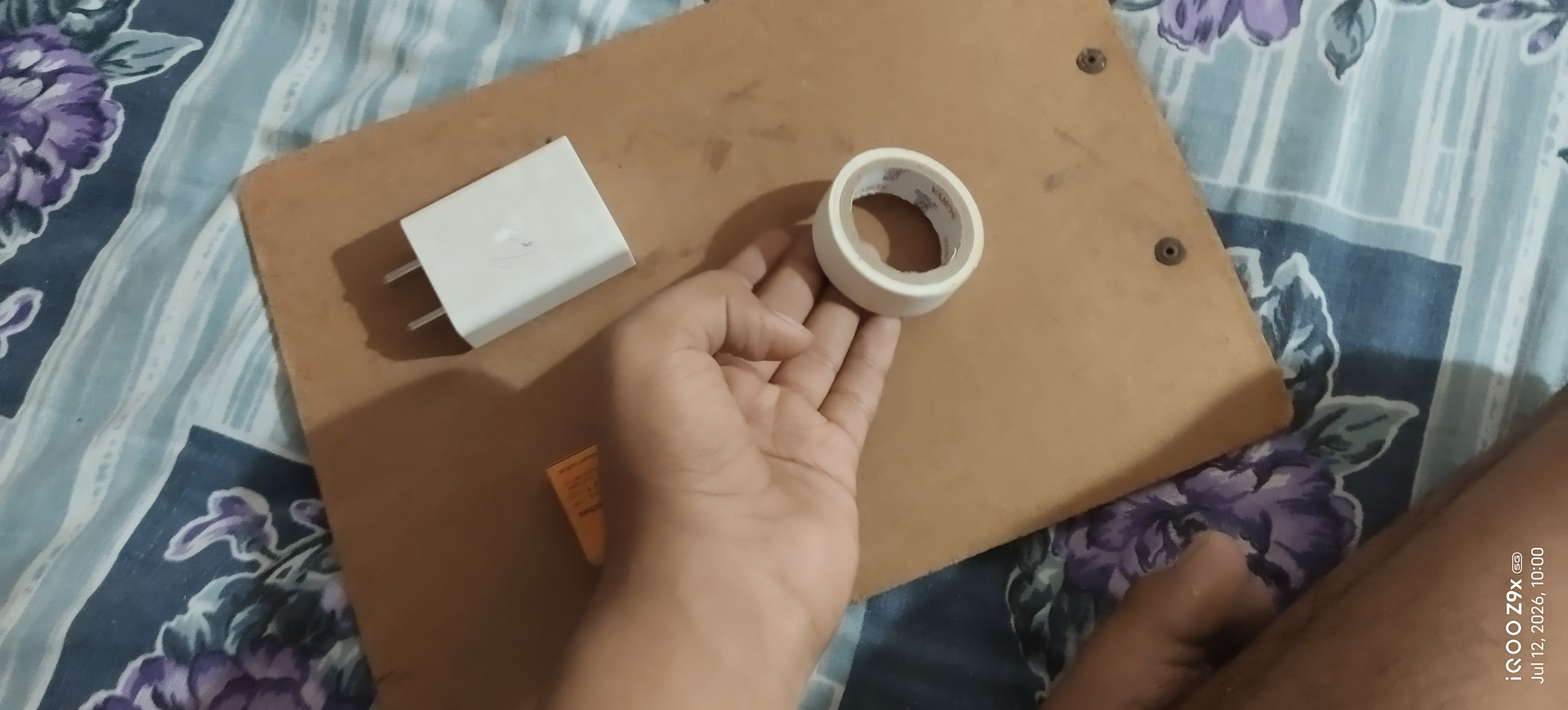charger: (346, 123, 673, 367)
matchbox: (519, 426, 668, 580)
tape_roll: (789, 135, 1011, 334)
